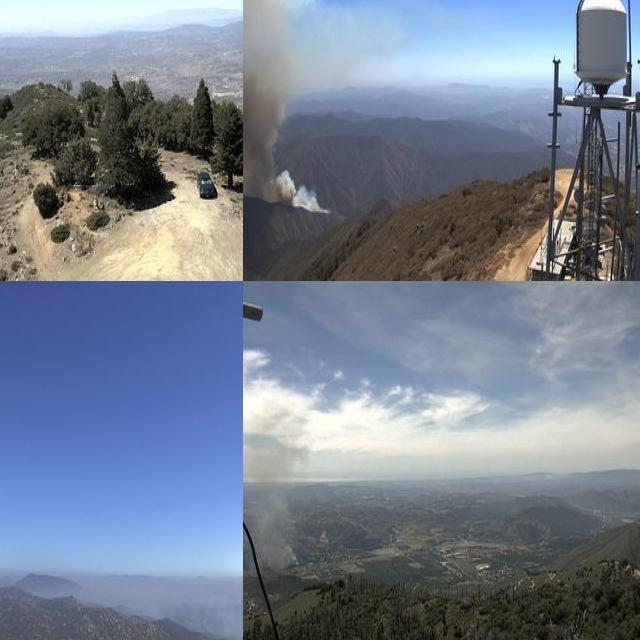smoke: (243, 0, 332, 219), (243, 402, 314, 572), (136, 570, 243, 640)
